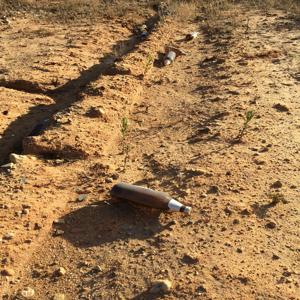glass: (103, 171, 195, 216), (162, 46, 182, 66)
